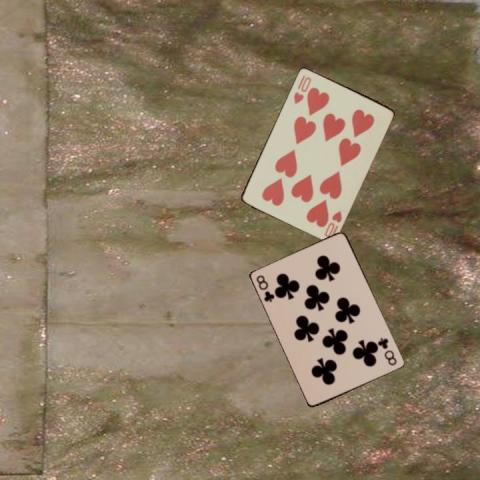10h: (290, 72, 313, 105), (322, 207, 344, 240)
8c: (375, 335, 399, 367), (253, 272, 276, 303)
